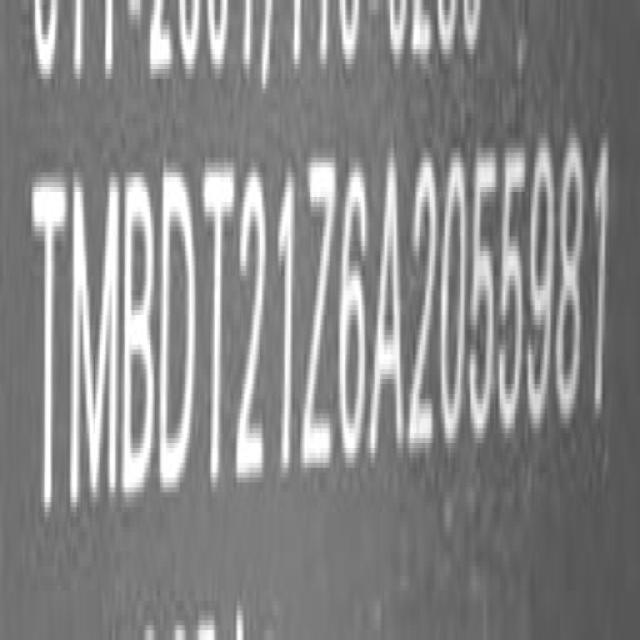0: (439, 154, 469, 460)
1: (591, 127, 619, 434), (274, 156, 298, 499)
2: (234, 160, 271, 498), (407, 150, 439, 464)
5: (468, 142, 498, 447), (499, 140, 528, 442)
6: (338, 150, 371, 482)
8: (554, 138, 586, 436)
9: (526, 136, 556, 437)
A: (372, 152, 411, 469)
B: (121, 165, 160, 510)
D: (158, 161, 200, 506)
M: (73, 168, 122, 524)
T: (27, 157, 70, 525), (202, 158, 238, 504)
Z: (301, 156, 339, 487)
